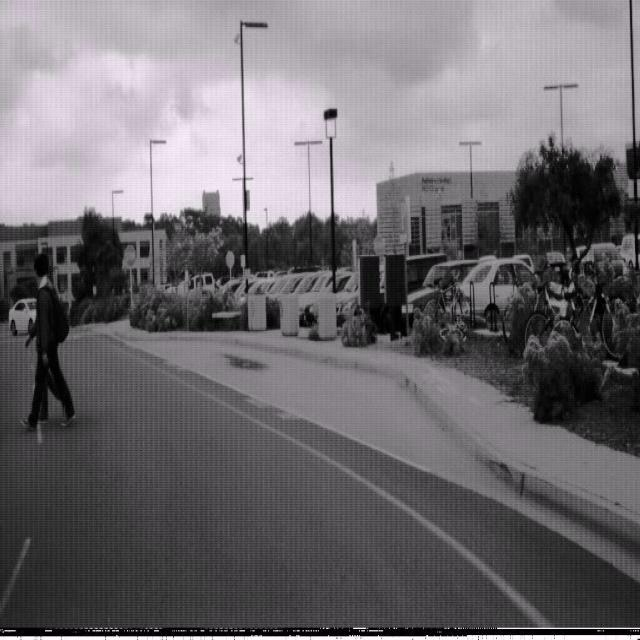stop: (373, 232, 386, 257), (123, 243, 136, 268)
